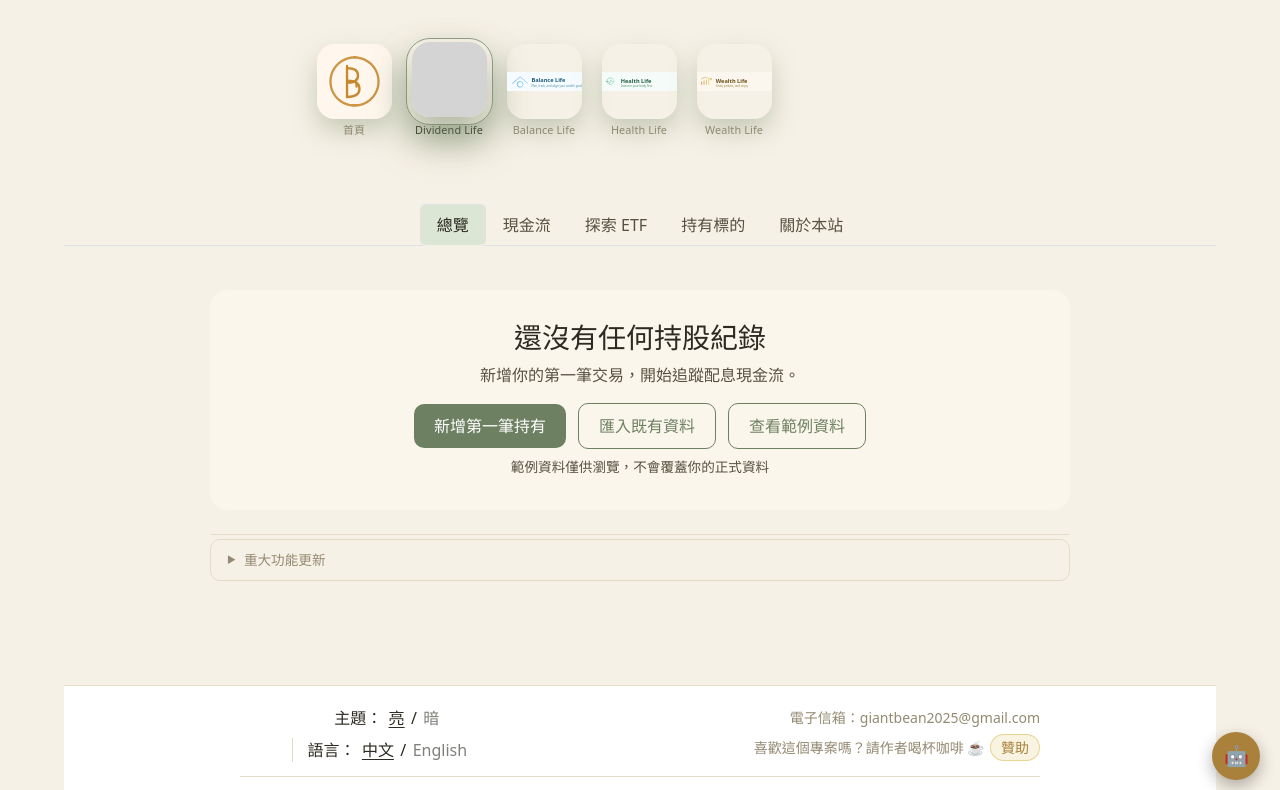
it: Reset restores both stocks after the search dropdown has filtered one out
This screenshot has width=1280, height=790.
Click the tab "探索 ETF" at (616, 225), box x1=568 y1=204 x2=664 y2=246
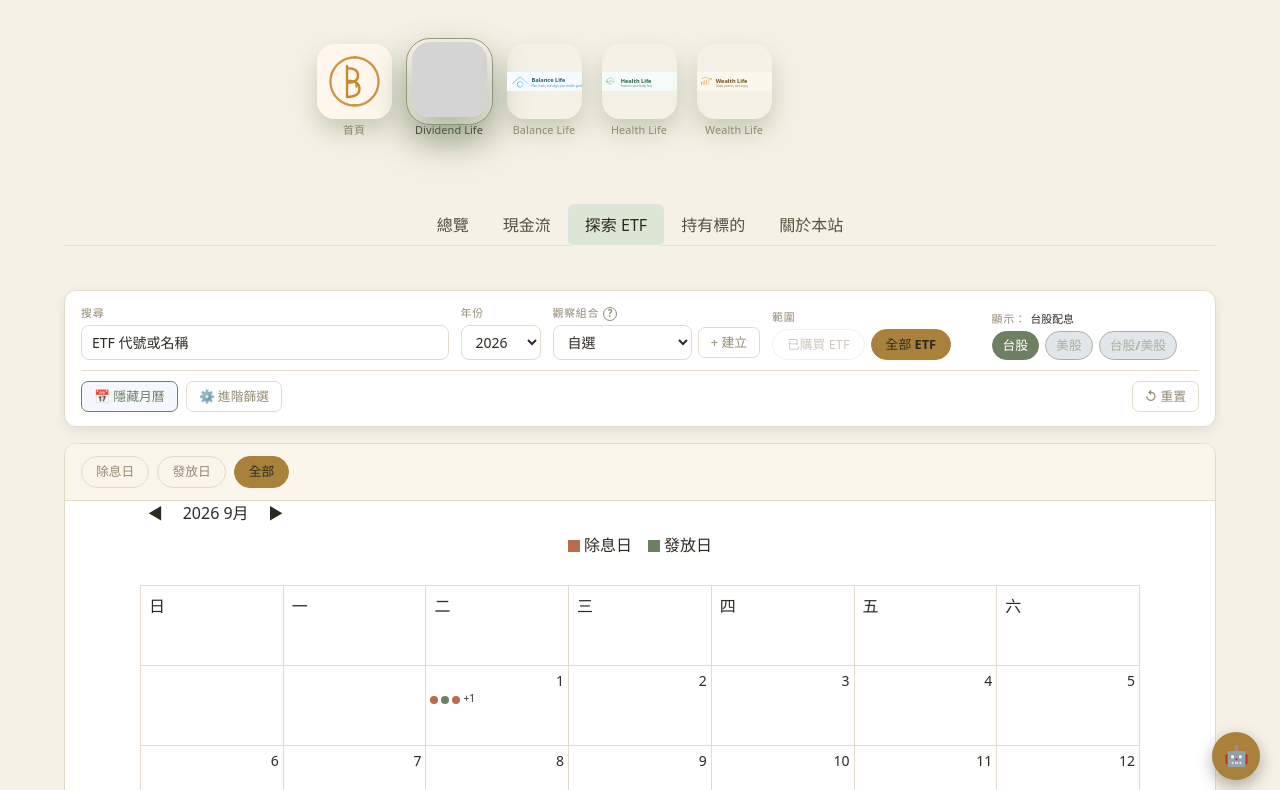
Click the button with id "filter-search" at (140, 343), box x1=81 y1=325 x2=448 y2=360
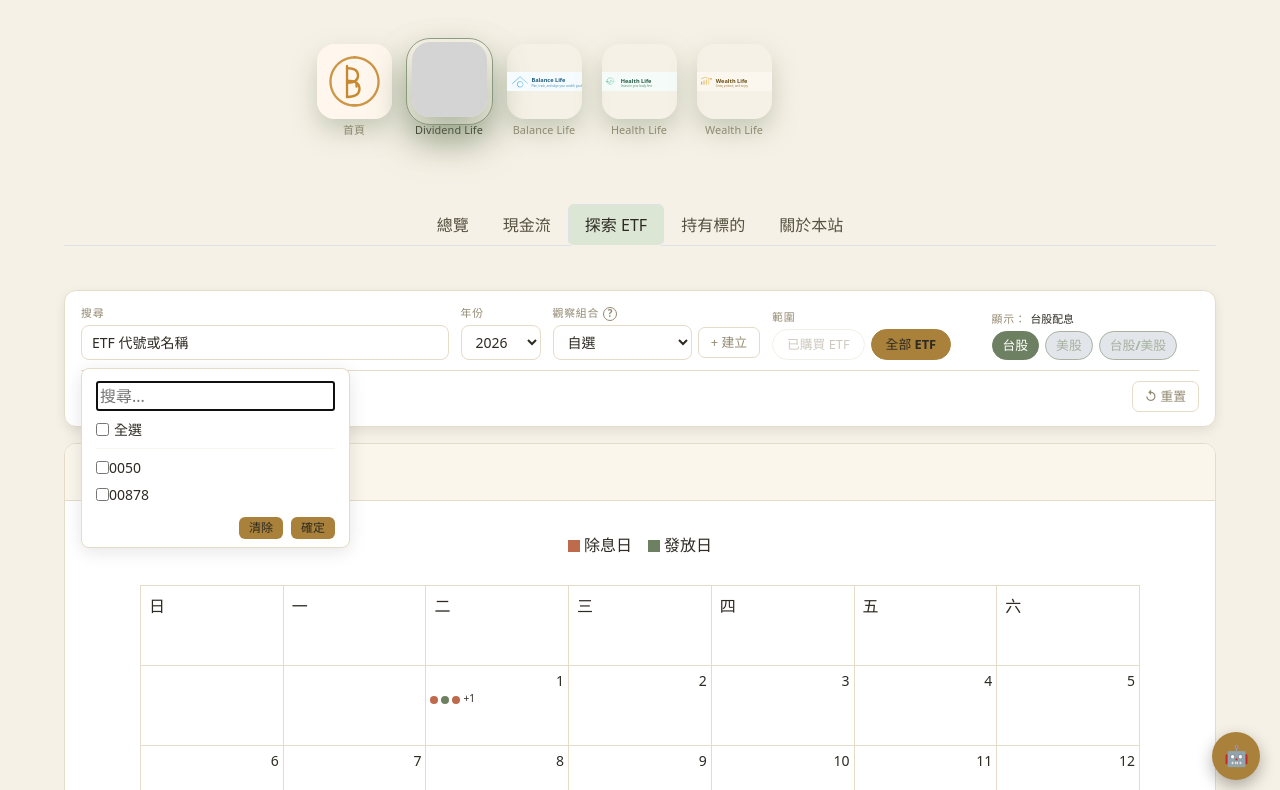
Click the checkbox labelled "0050" at (102, 468), box x1=96 y1=461 x2=109 y2=474
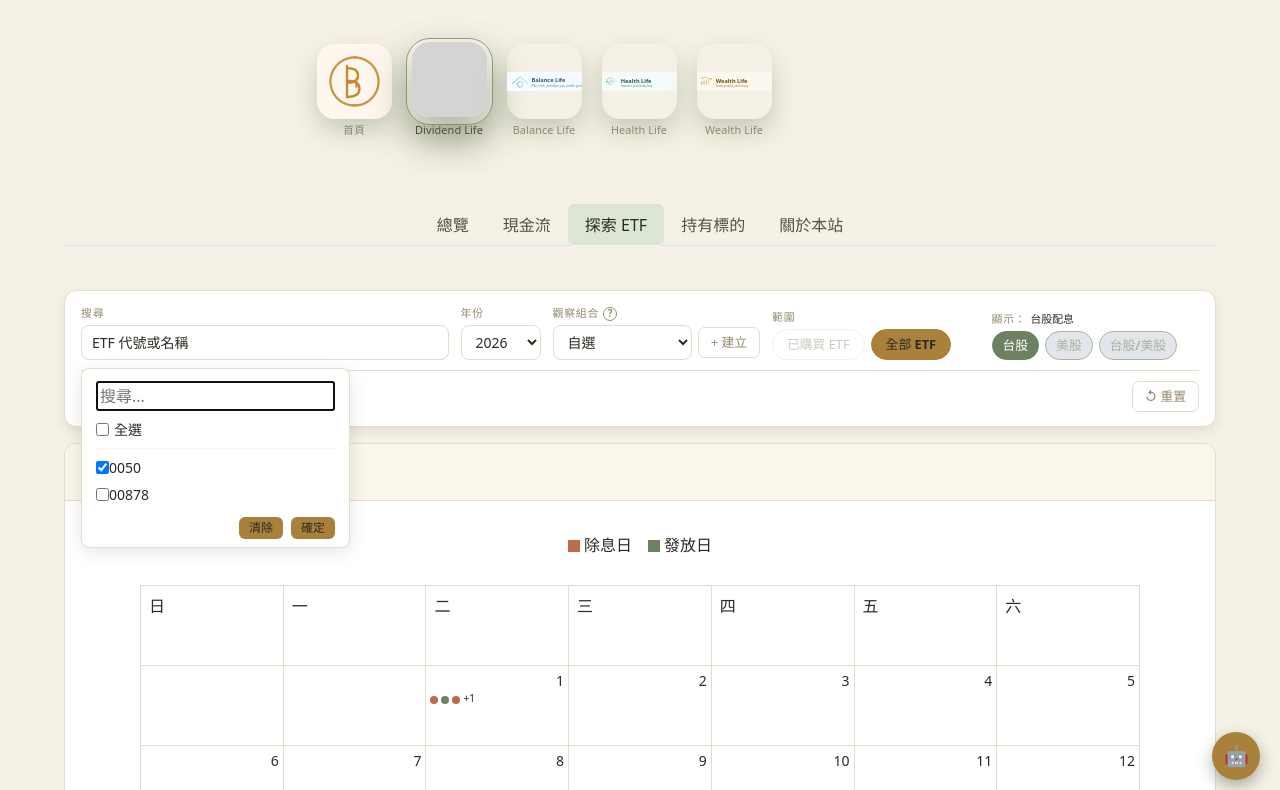
Click the button "確定" at (313, 528), box x1=291 y1=517 x2=335 y2=539
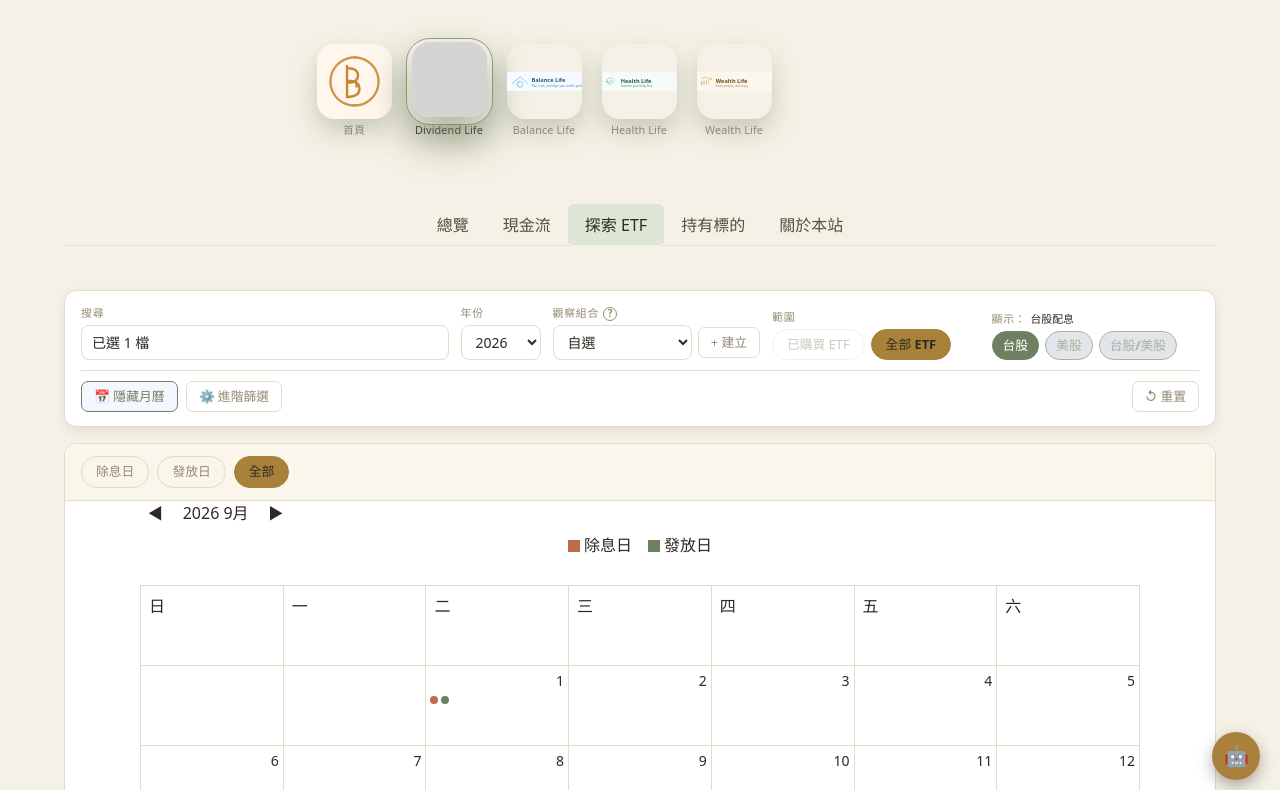
expect the text "00878" is not shown: met
Click the button "↺ 重置" at (1165, 397), box x1=1132 y1=381 x2=1199 y2=412
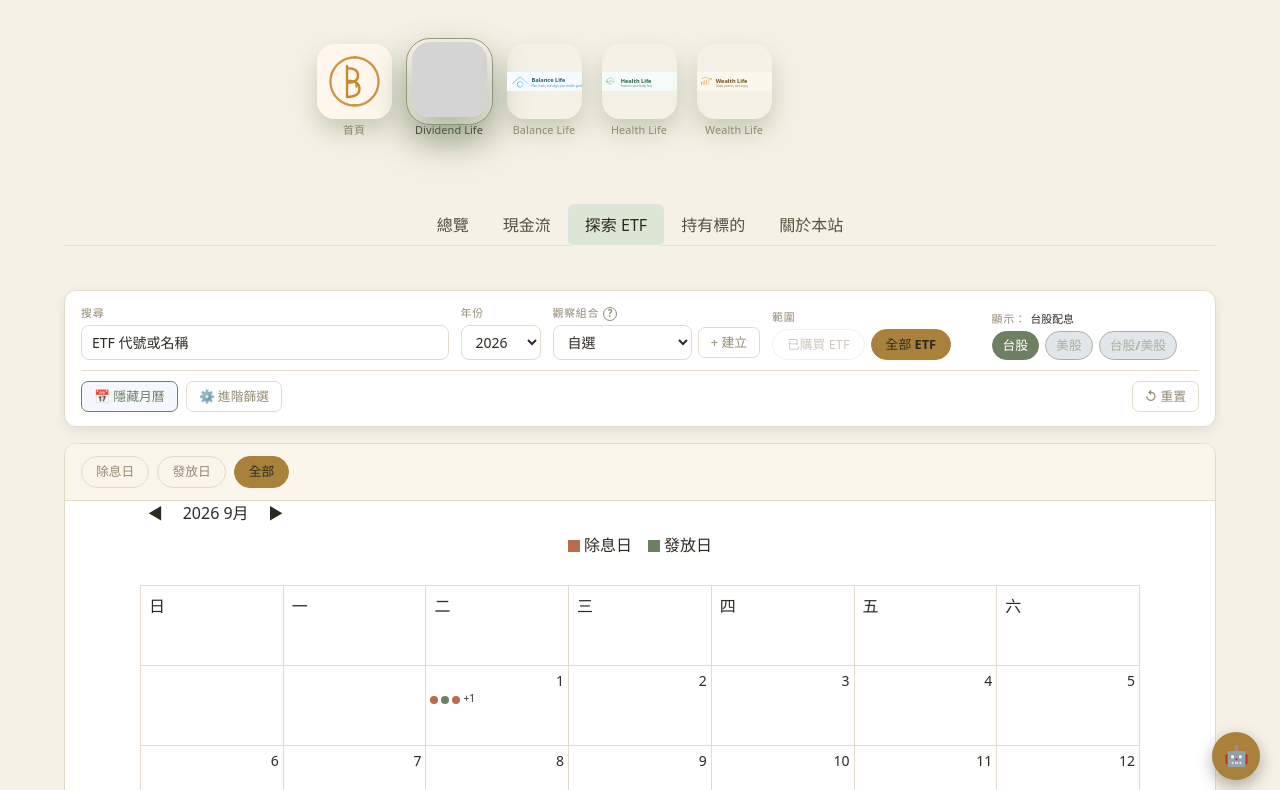
expect the button with id "filter-search" reads "ETF 代號或名稱": met, box x1=81 y1=325 x2=448 y2=360
